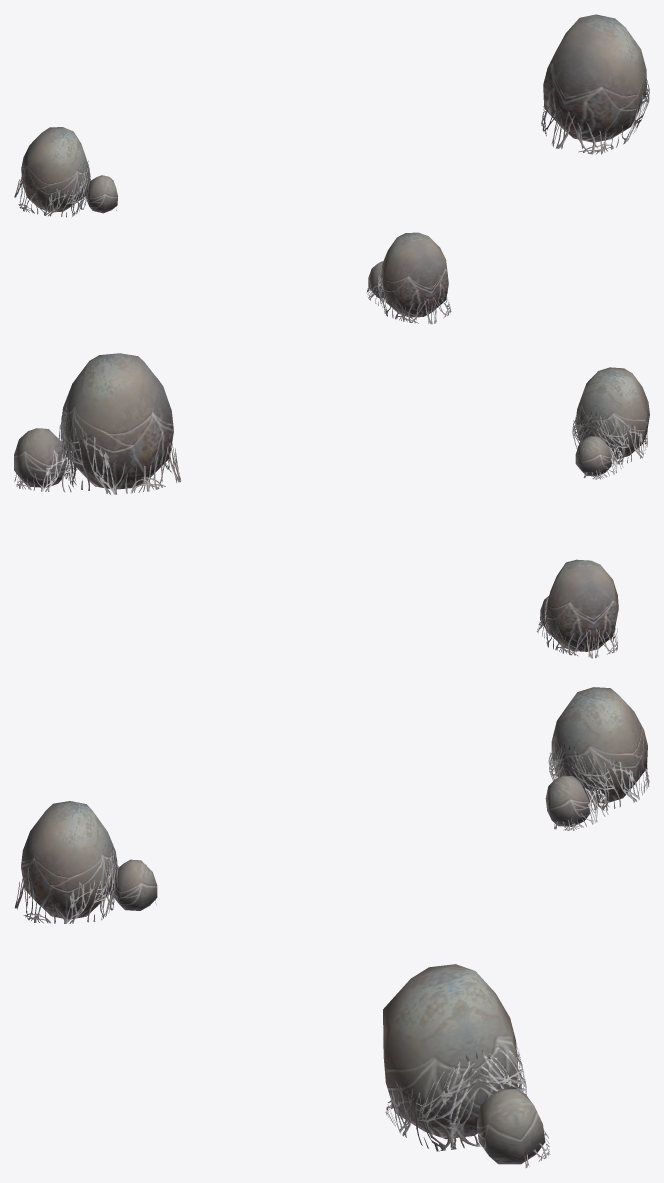
Rendered from all_daliang_field_v_i01.fbx.
3 views of the same model, one above another, from view 1: azimuth 30°, elevation 25°; view 2: azimuth 150°, elevation 25°; view 3: azimuth 270°, elevation 25° (orthographic). The views are drawn at different scales.
Visible parts, largest first — view 1: all_daliang_field_v_i01; view 2: all_daliang_field_v_i01; view 3: all_daliang_field_v_i01.
Boxes of the visible parts, x1=… form: all_daliang_field_v_i01: x1=14, y1=14, x2=649, y2=324; all_daliang_field_v_i01: x1=14, y1=353, x2=649, y2=658; all_daliang_field_v_i01: x1=14, y1=687, x2=649, y2=1167.
Bounding box in the file's own units: 1340 × 260 × 916.
